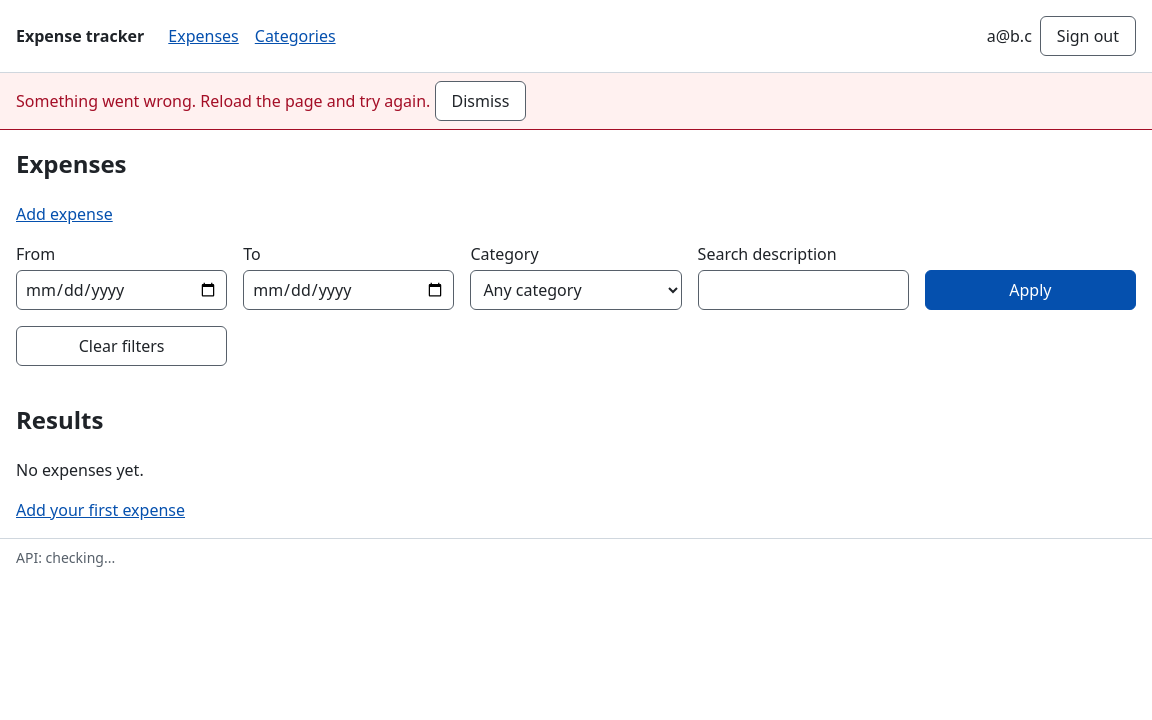
Test: global error banner › the banner can be dismissed
Click the button "Dismiss": (480, 101) [434,81,526,121]
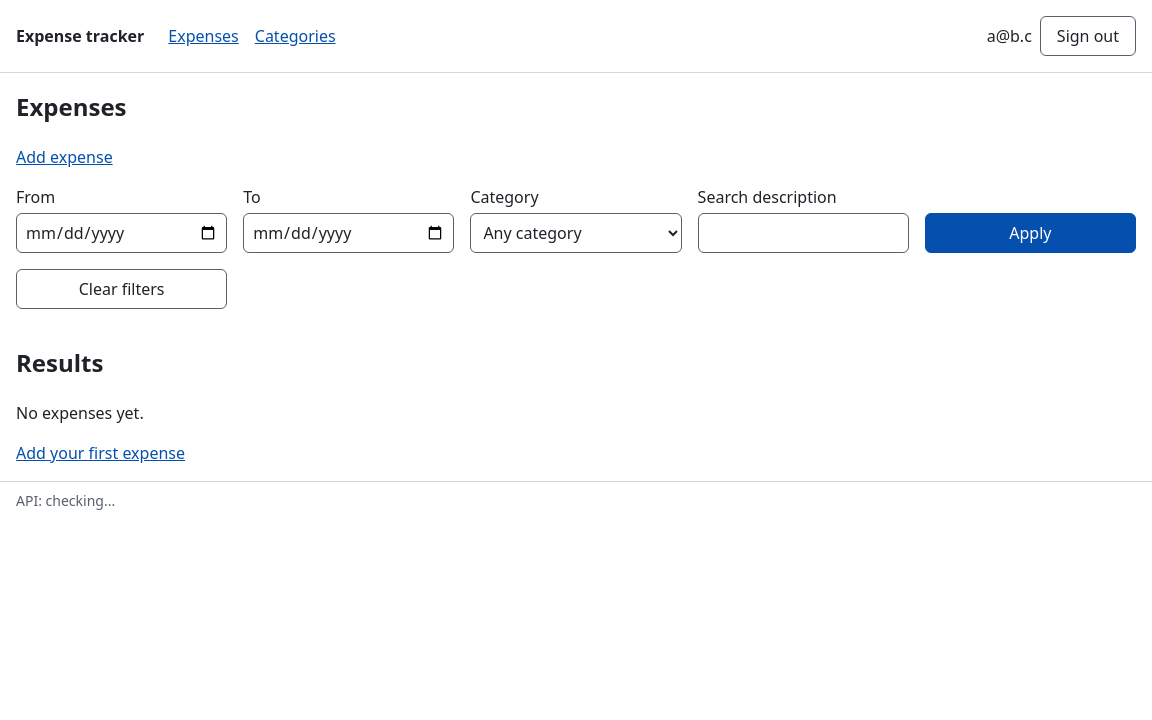
Now the message "Something went wrong. Reload the page and try again. Dismiss" is gone
